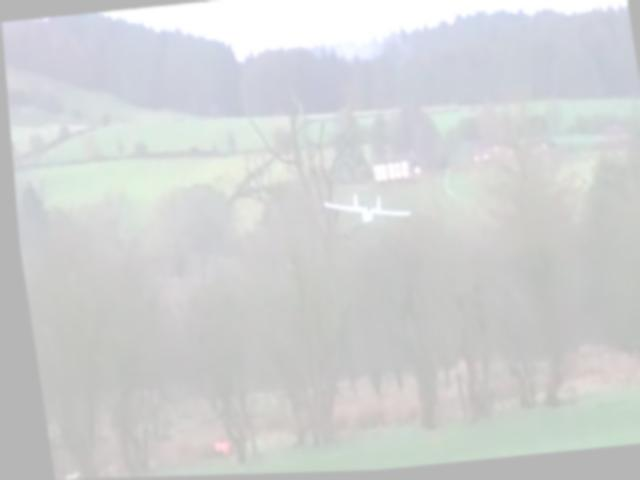uav: (316, 188, 408, 231)
